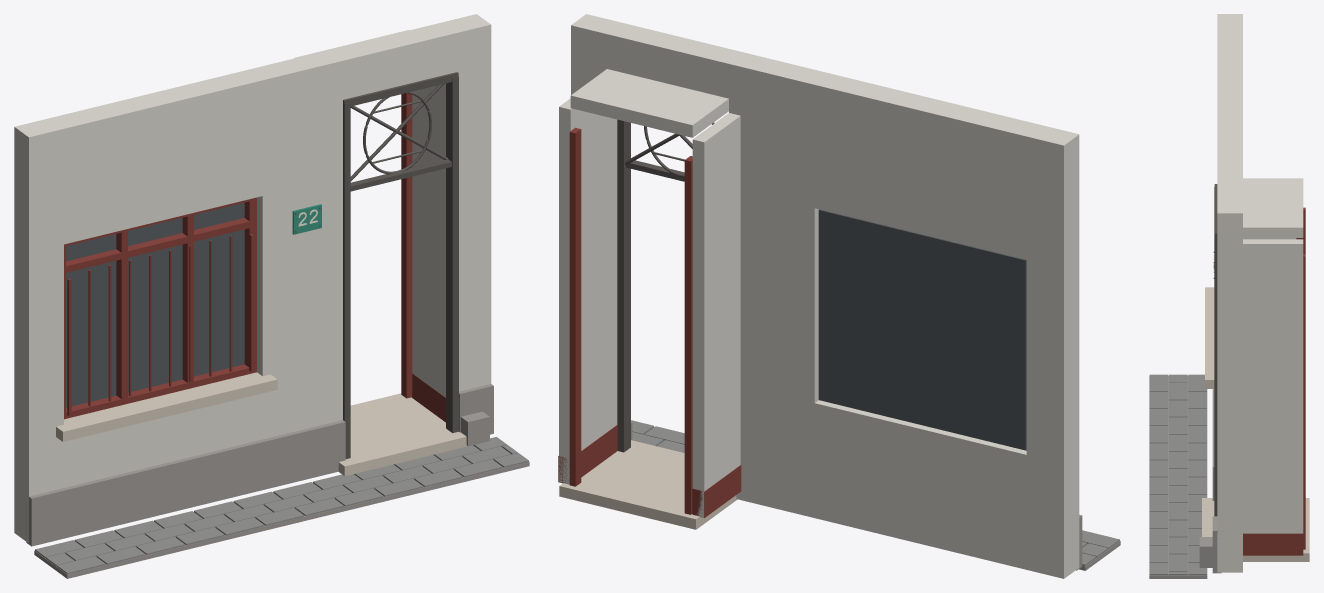
File: jingan-mofan-village-no22-entrance-raw.glb
The picture shows the model from 3 angles, left to right: view 1: azimuth 30°, elevation 25°; view 2: azimuth 150°, elevation 25°; view 3: azimuth 270°, elevation 25°; orthographic projection. The views are drawn at different scales.
Parts seen in each view (by area): view 1: 模范邨22号冒广生旧居入口; view 2: 模范邨22号冒广生旧居入口; view 3: 模范邨22号冒广生旧居入口.
Part boxes in pixels (x1,y1,x2,y2): 模范邨22号冒广生旧居入口: [14, 14, 529, 578]; 模范邨22号冒广生旧居入口: [558, 14, 1120, 578]; 模范邨22号冒广生旧居入口: [1149, 14, 1309, 578].
Bounding box in the file's own units: 3.68 × 3.14 × 1.25.
